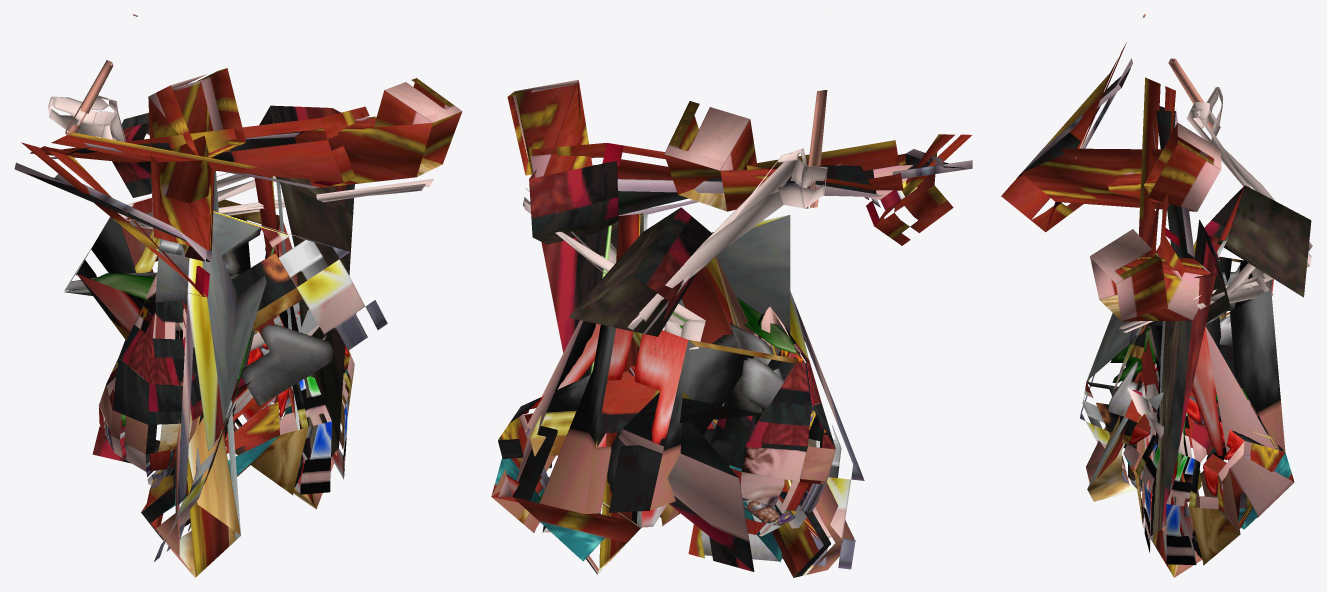
The picture shows the model from 3 angles, left to right: view 1: azimuth 30°, elevation 25°; view 2: azimuth 150°, elevation 25°; view 3: azimuth 270°, elevation 25°; orthographic projection. The views are drawn at different scales.
Visible parts, largest first — view 1: T1L7M003_1; view 2: T1L7M003_1; view 3: T1L7M003_1.
Part boxes in pixels (x1,y1,x2,y2): T1L7M003_1: [14, 14, 462, 577]; T1L7M003_1: [491, 79, 972, 577]; T1L7M003_1: [1001, 14, 1312, 577].
Size of the model in its own units: 1.17 by 1.42 by 0.8349.
